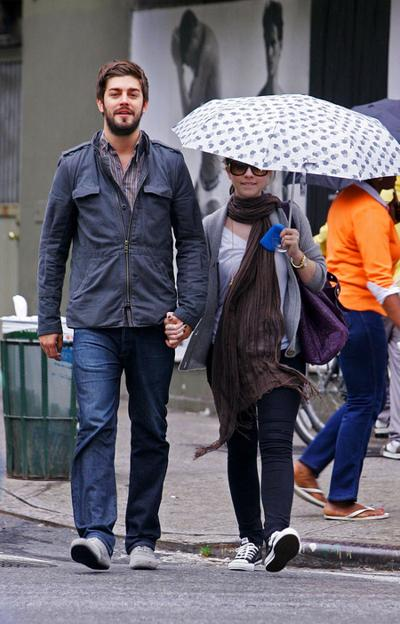person: (164, 156, 329, 574)
